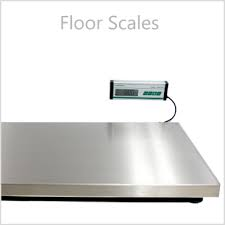Industrial Scale: (3, 80, 220, 203)
